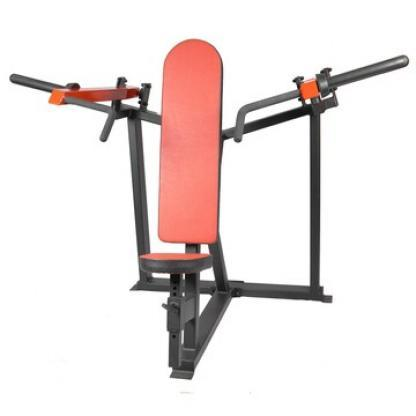shoulder press machine: (5, 19, 411, 393)
